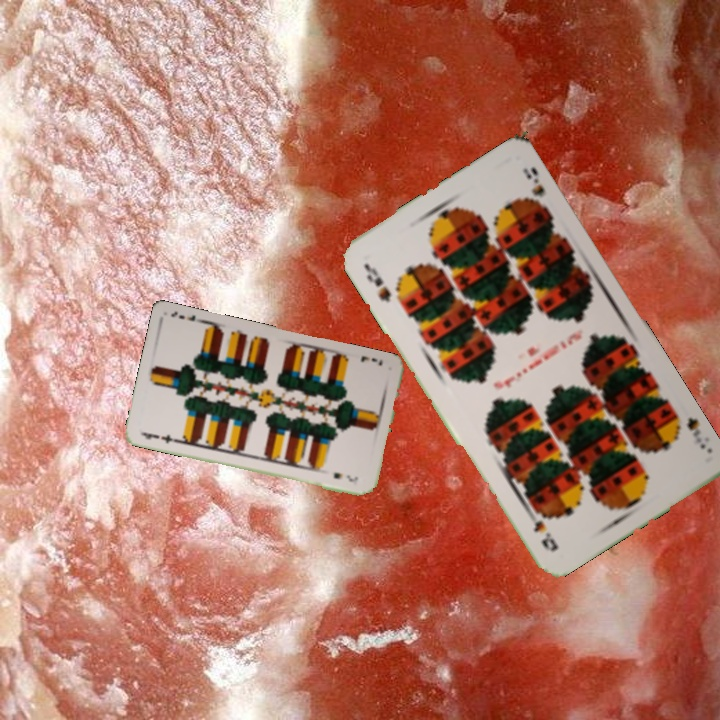E7: (138, 428, 179, 446), (357, 352, 385, 368)
S9: (667, 407, 709, 452), (359, 259, 394, 305)
